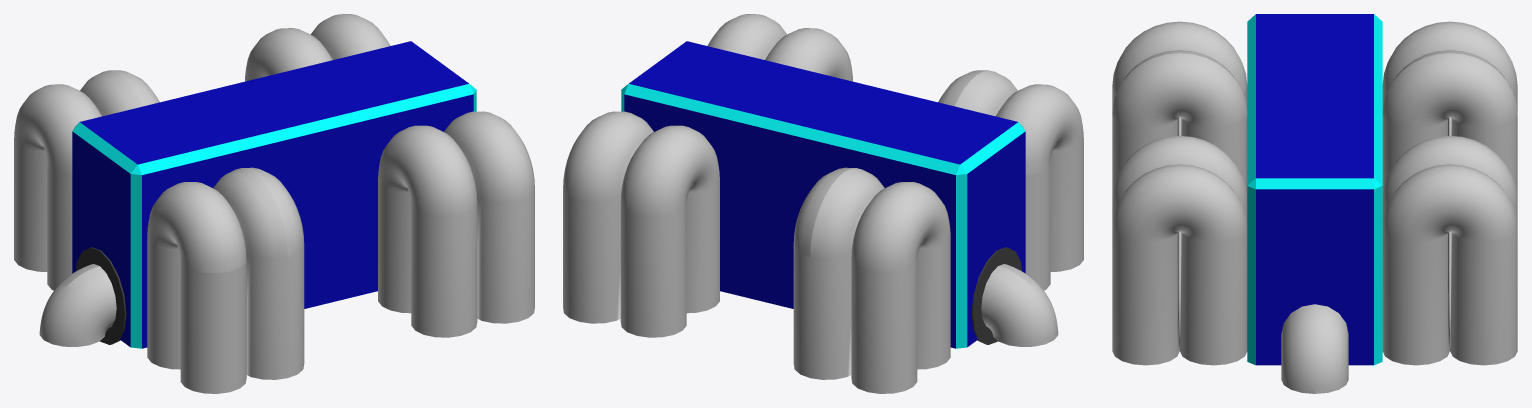
The model's file is condenser.glb.
3 renders of one model, left to right at view 1: azimuth 30°, elevation 25°; view 2: azimuth 150°, elevation 25°; view 3: azimuth 270°, elevation 25°, orthographic.
Visible parts, largest first — view 1: Asset3DLoader.sceneRoot; view 2: Asset3DLoader.sceneRoot; view 3: Asset3DLoader.sceneRoot.
Boxes of the visible parts, left/top/right/bottom form: Asset3DLoader.sceneRoot: left=14, top=14, right=534, bottom=393; Asset3DLoader.sceneRoot: left=563, top=14, right=1083, bottom=393; Asset3DLoader.sceneRoot: left=1112, top=14, right=1517, bottom=393.
Size of the model in its own units: 8 by 3.25 by 6.
